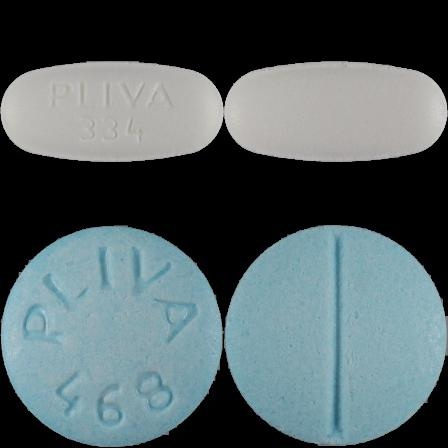53808-0474: (0, 0, 224, 224)
